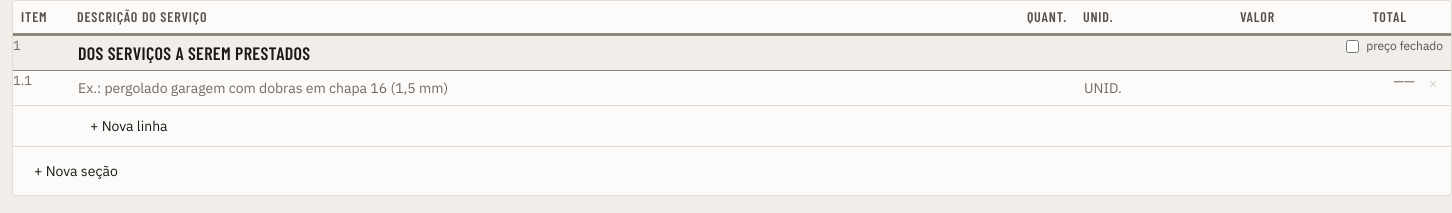
na grade › Esc fecha a lista sem escolher
Click the dropdown named "Descrição do item 1.1" at (530, 88), box [69,71,991,105]
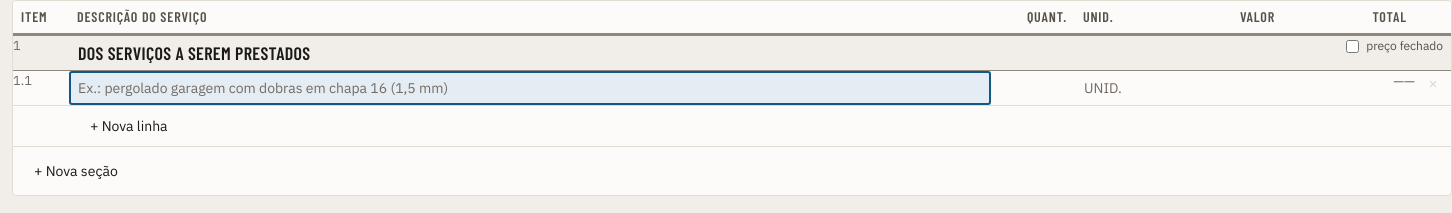
Type keys "pergola"
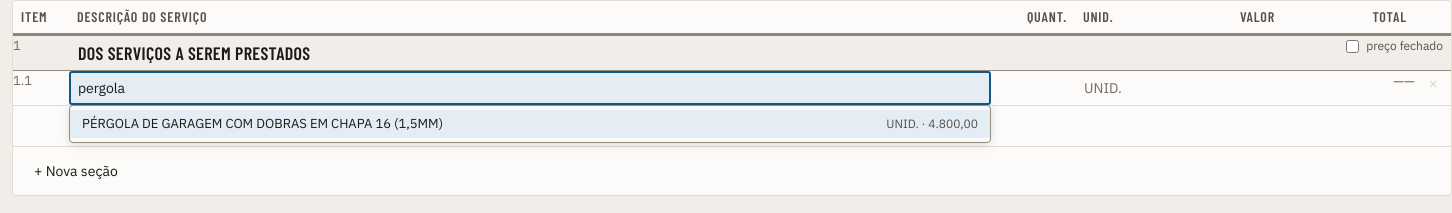
Expected: the list named "Serviços já orçados" is shown, [69,105,991,143]
Press Escape
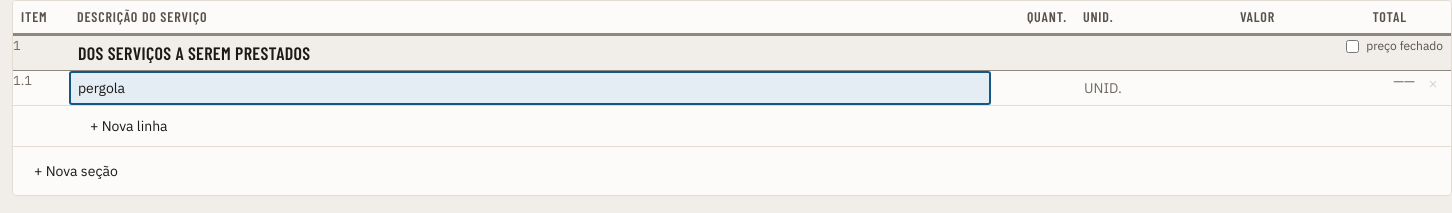
Expected: the list is gone
